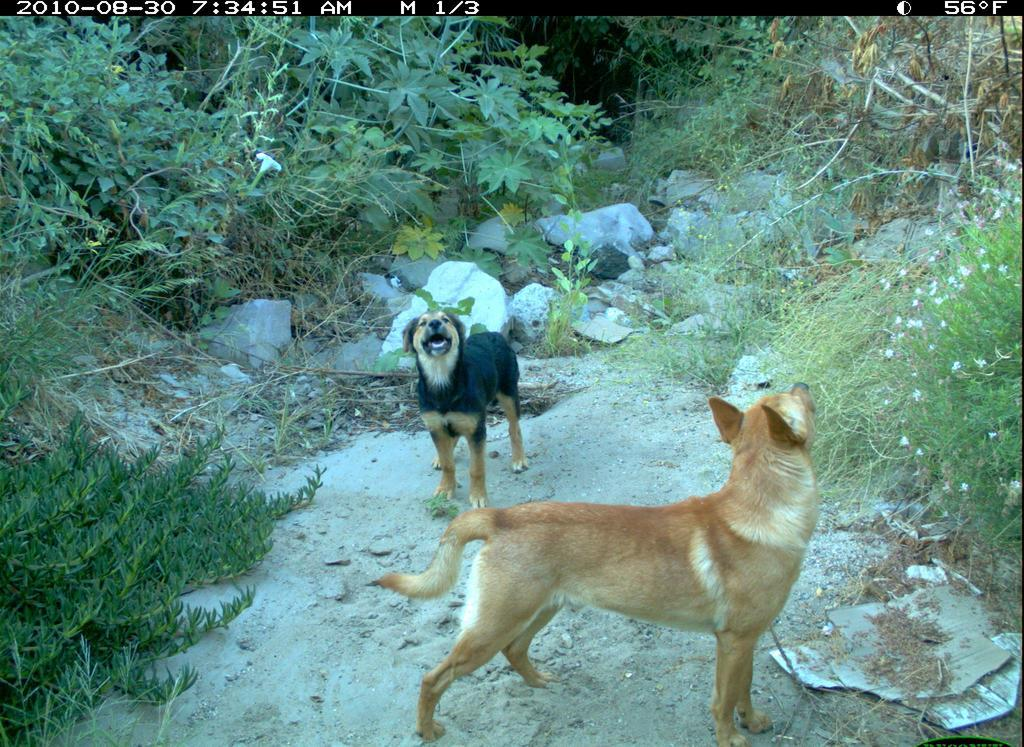dog: (378, 367, 849, 745), (396, 304, 543, 513)
